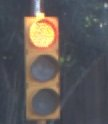Red: (20, 15, 68, 120)
